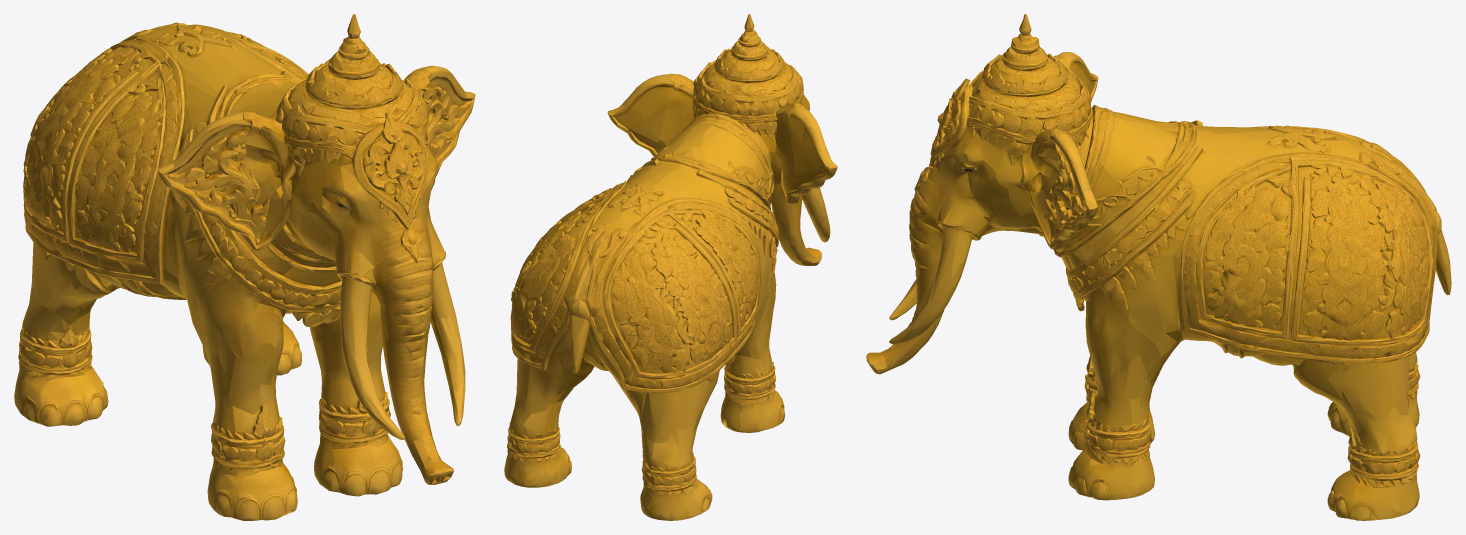
The model's file is wed.glb.
3 renders of one model, left to right at view 1: azimuth 30°, elevation 25°; view 2: azimuth 150°, elevation 25°; view 3: azimuth 270°, elevation 25°, orthographic. The views are drawn at different scales.
Visible parts, largest first — view 1: Mesh_0; view 2: Mesh_0; view 3: Mesh_0.
Boxes of the visible parts, x1=… form: Mesh_0: x1=14, y1=14, x2=475, y2=520; Mesh_0: x1=504, y1=14, x2=837, y2=520; Mesh_0: x1=866, y1=14, x2=1451, y2=520.
Size of the model in its own units: 1.04 by 1.61 by 1.9.
1 material, 1 textured.
